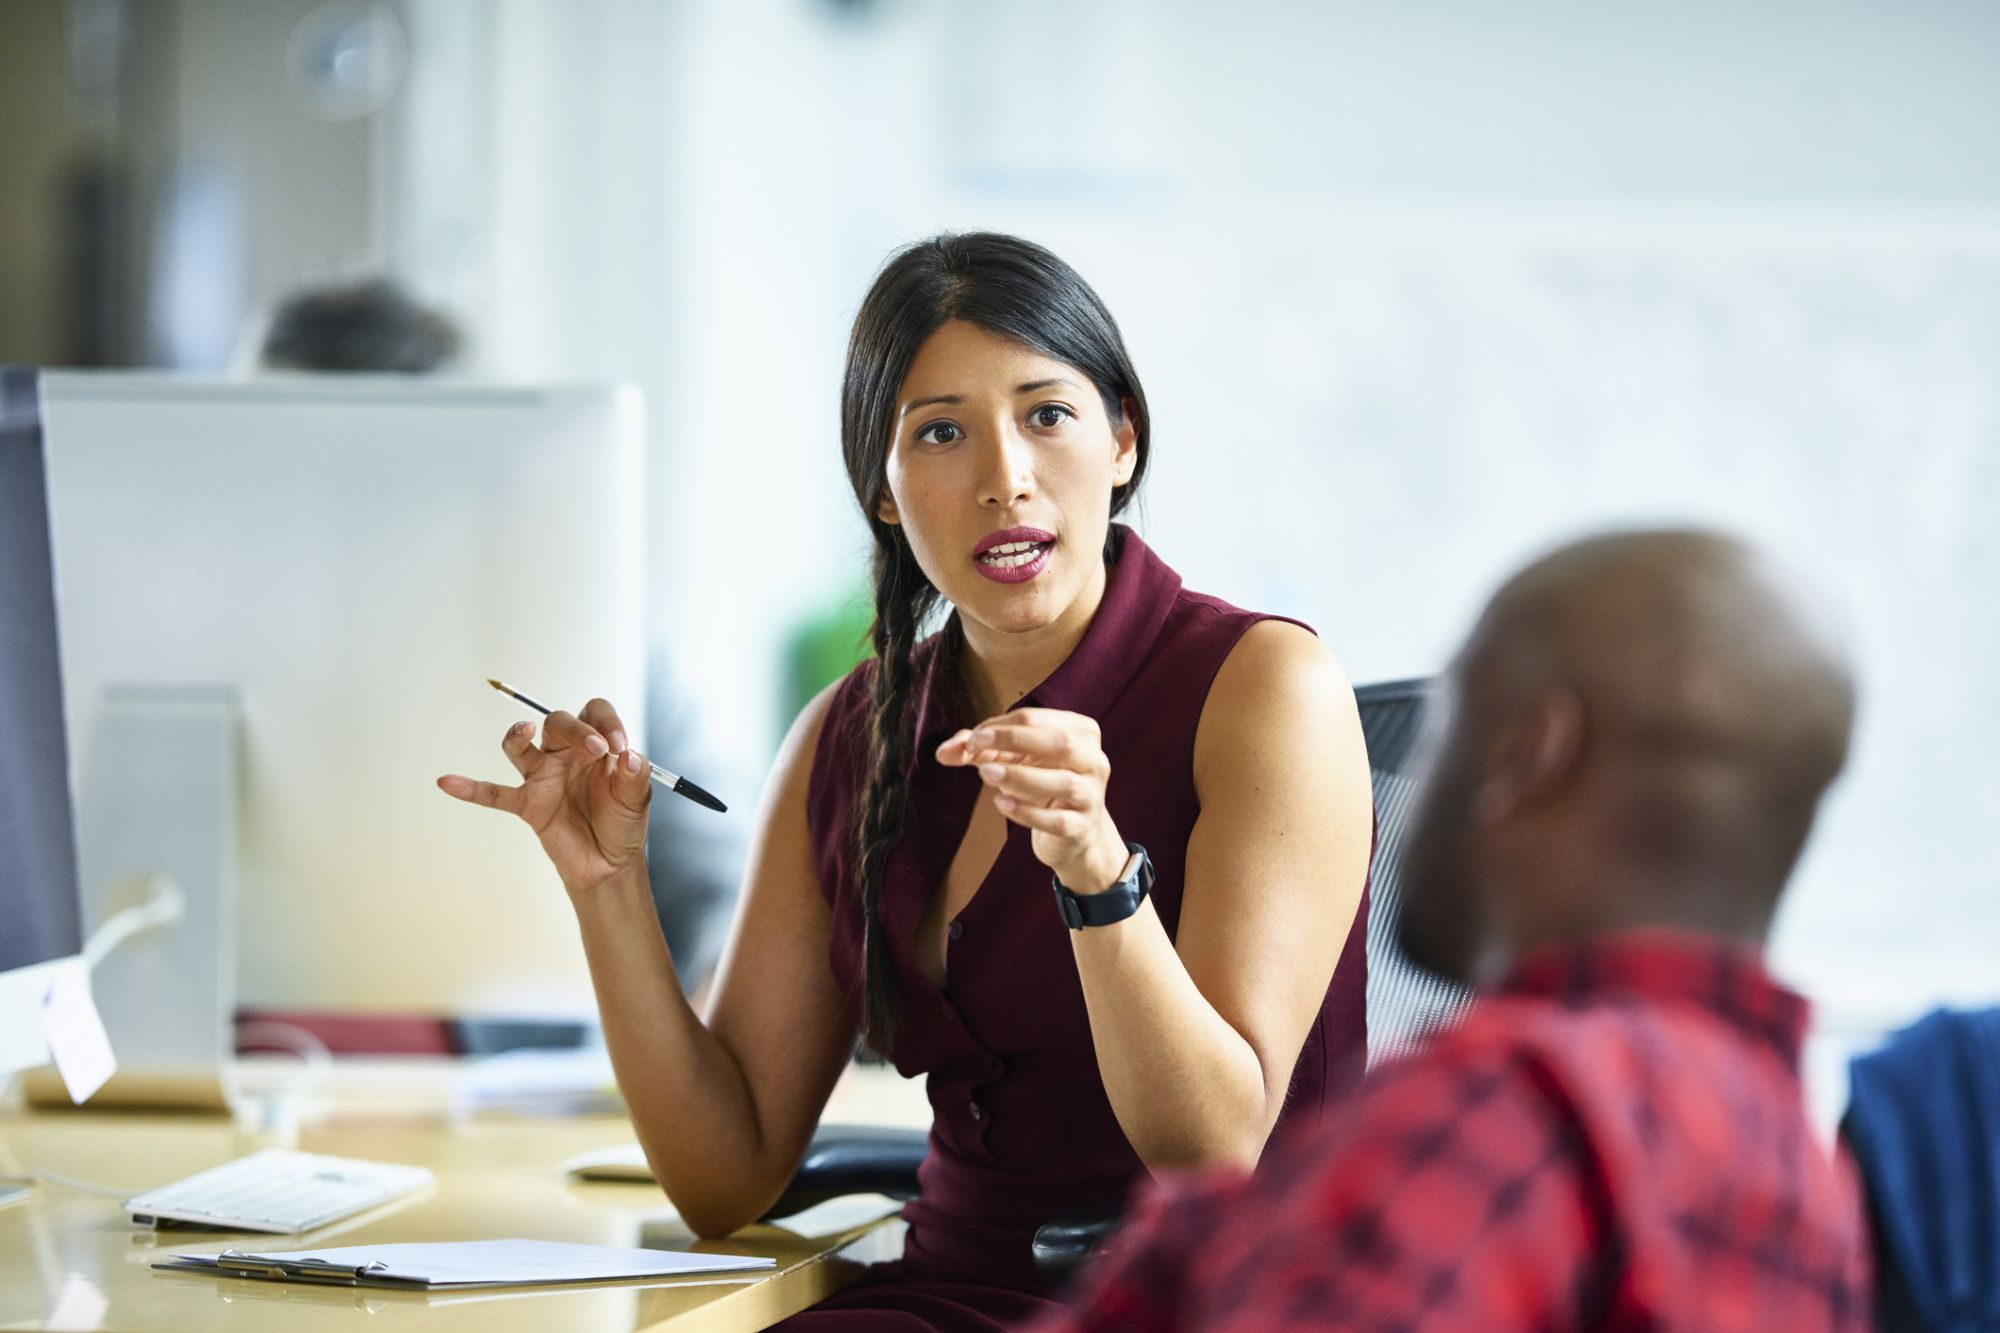without_mask: (903, 368, 1095, 622)
